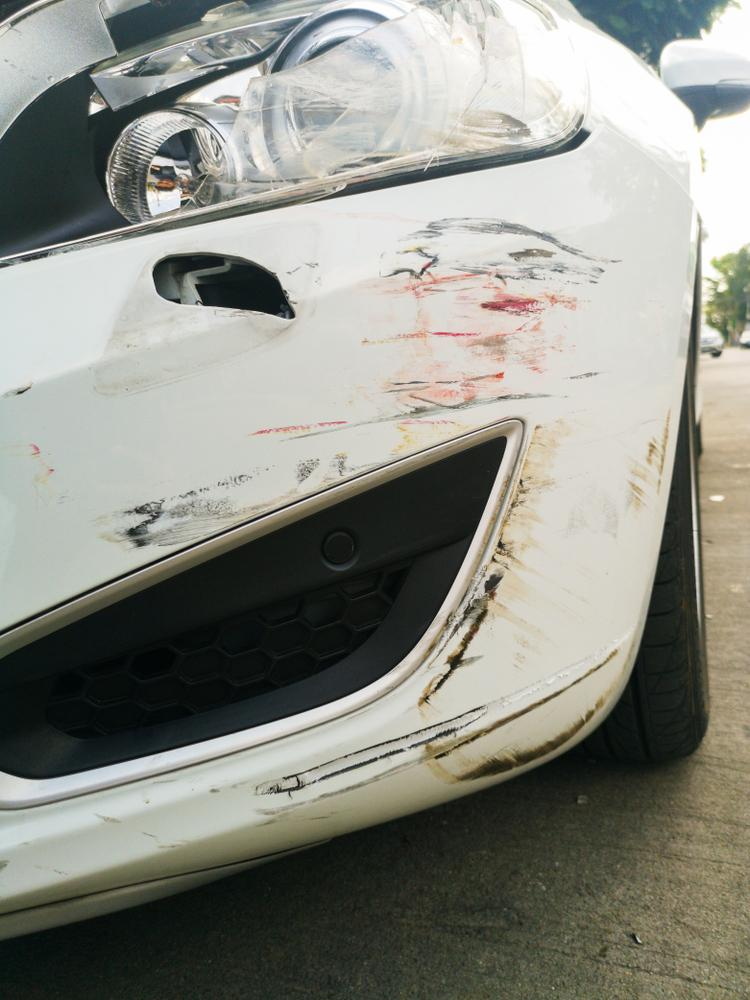lamp broken: (0, 0, 584, 259)
scratch: (113, 201, 690, 804)
